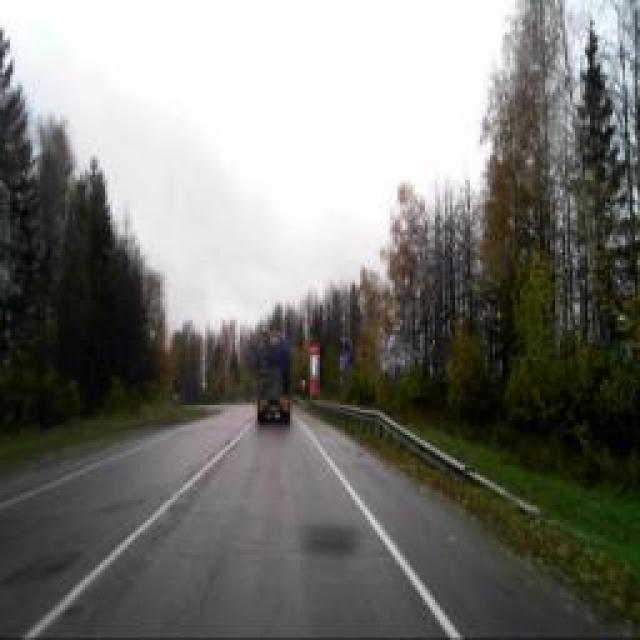sign: (339, 351, 349, 374)
